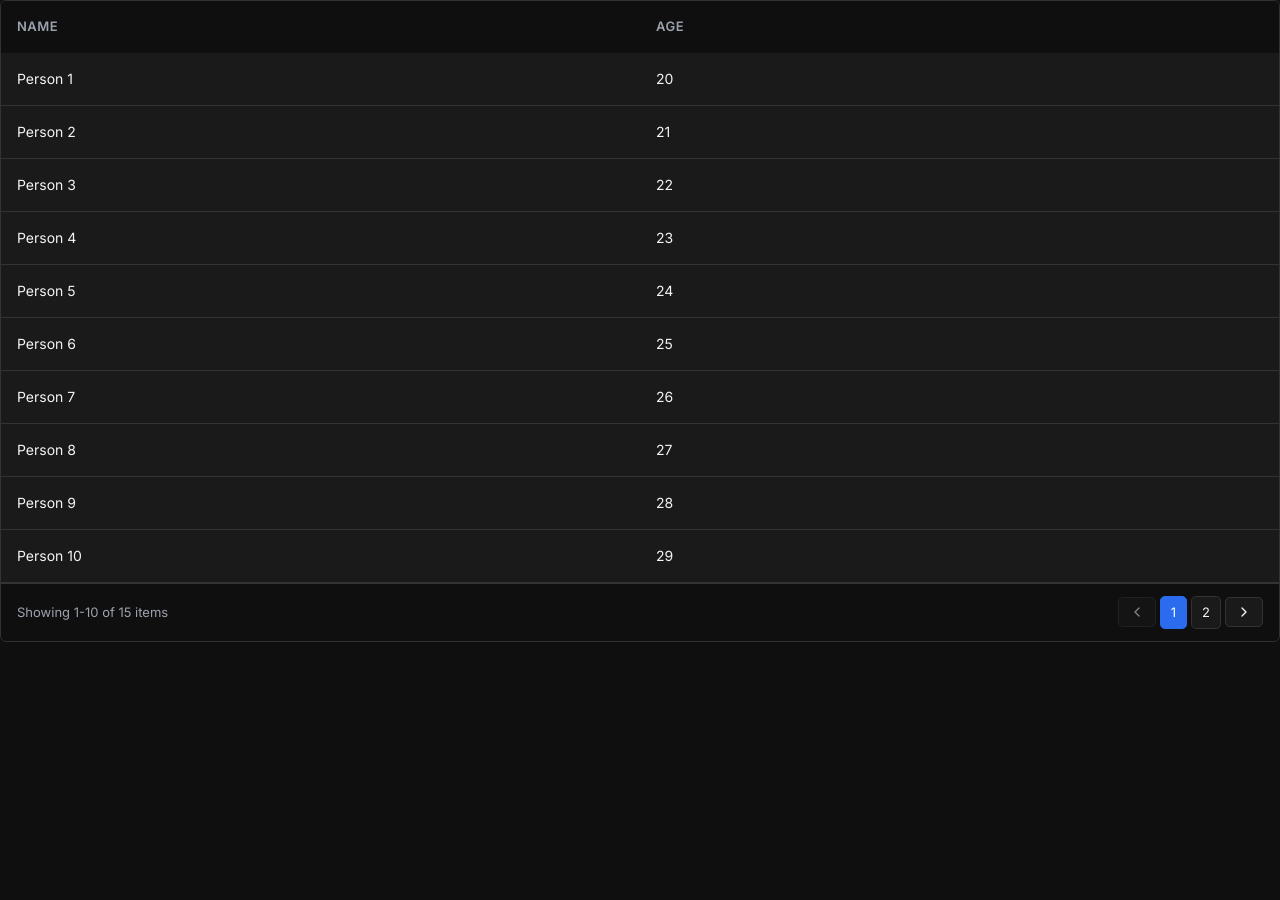
Test: DataTable › navigates pages and changes visible rows
Expected: the text "Person 1" is shown, [1,52,640,105]
Expected: the text "Person 10" is shown, [1,529,640,582]
Note: Navigate to page 2
Click the button named "Page 2".
click(1206, 612)  # box [1191,596,1221,629]
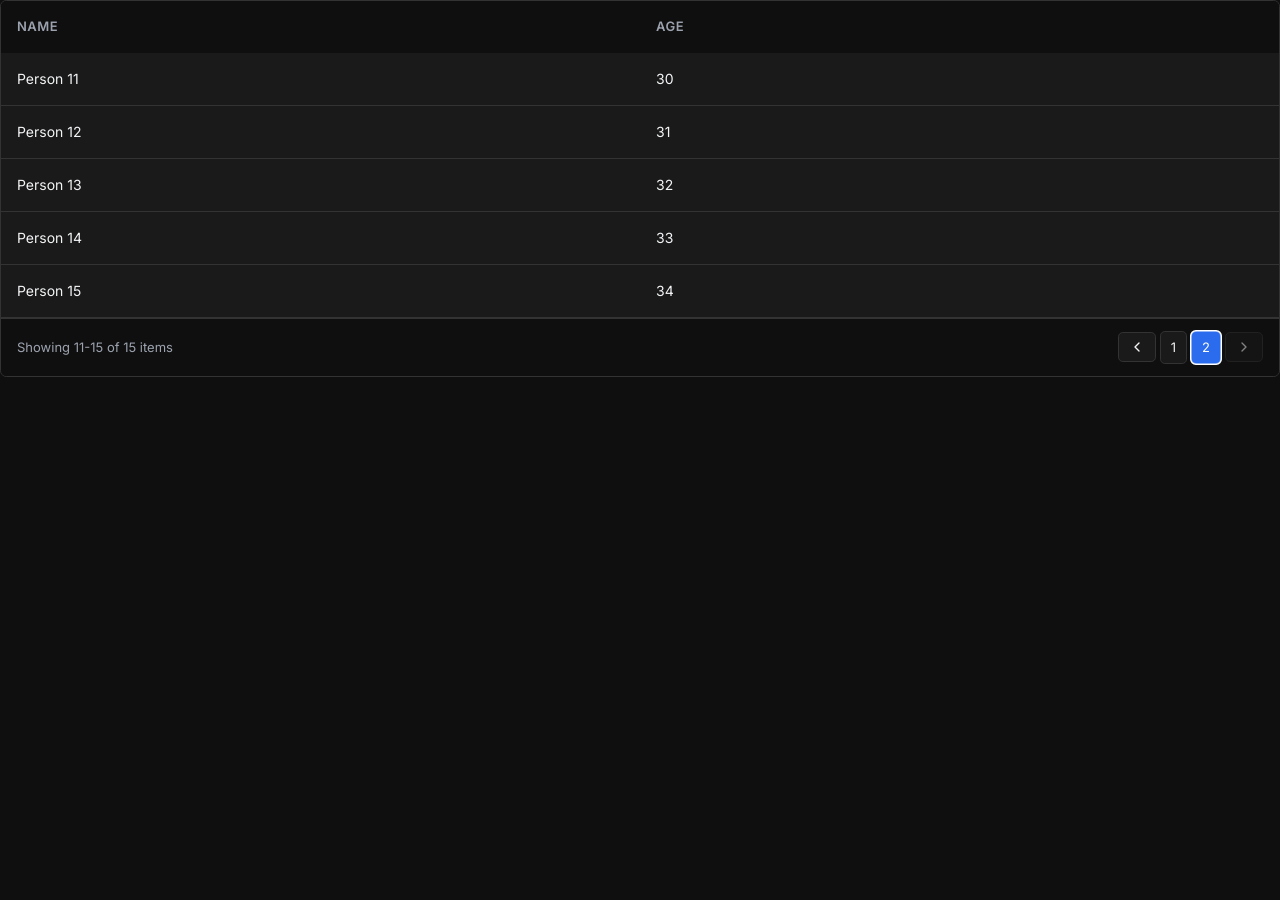
Expected: the text "Person 10" is gone
Expected: the text "Person 11" is shown, [1,52,640,105]
Expected: the text "Person 15" is shown, [1,264,640,317]
